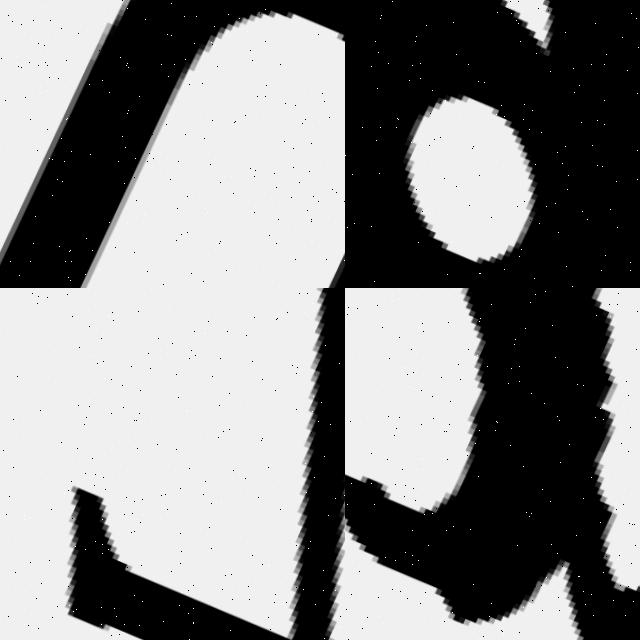7: (11, 288, 345, 640)
G: (345, 0, 640, 288)
R: (345, 288, 640, 640)
U: (0, 0, 345, 288)
